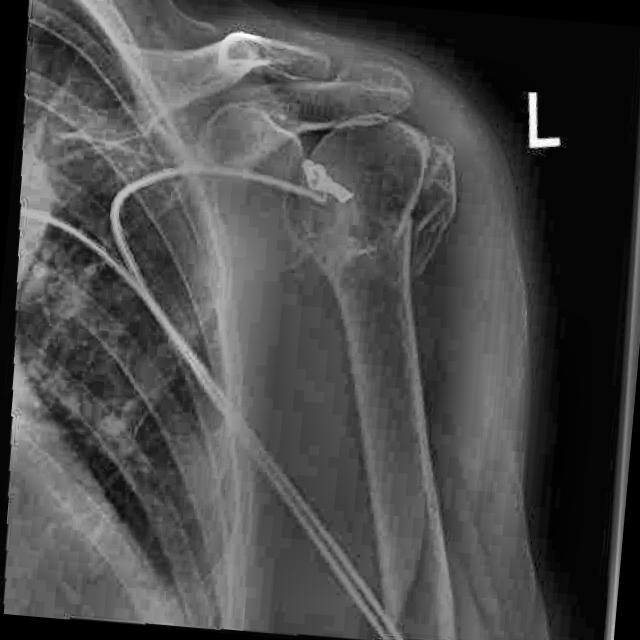shoulder fracture: (376, 117, 474, 310)
